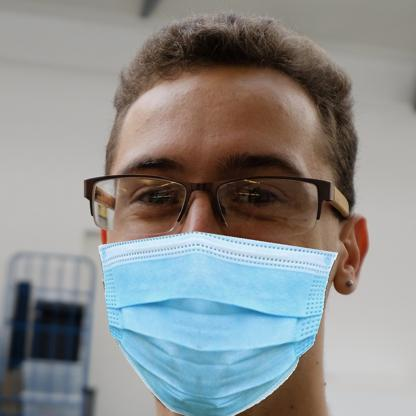mask: (94, 228, 340, 416)
